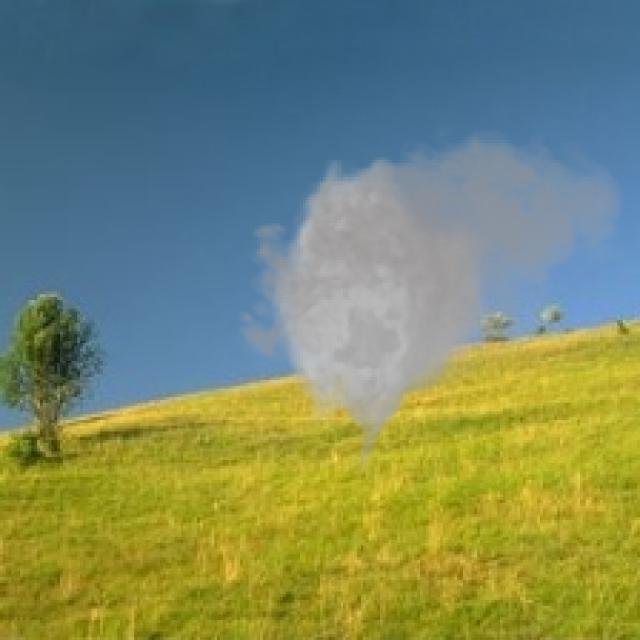Smoke: (226, 120, 628, 480)
